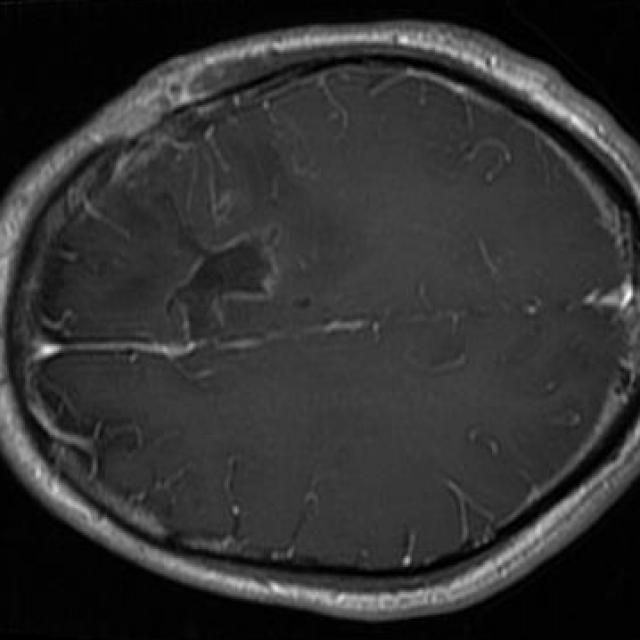glioma: (157, 193, 276, 339)
